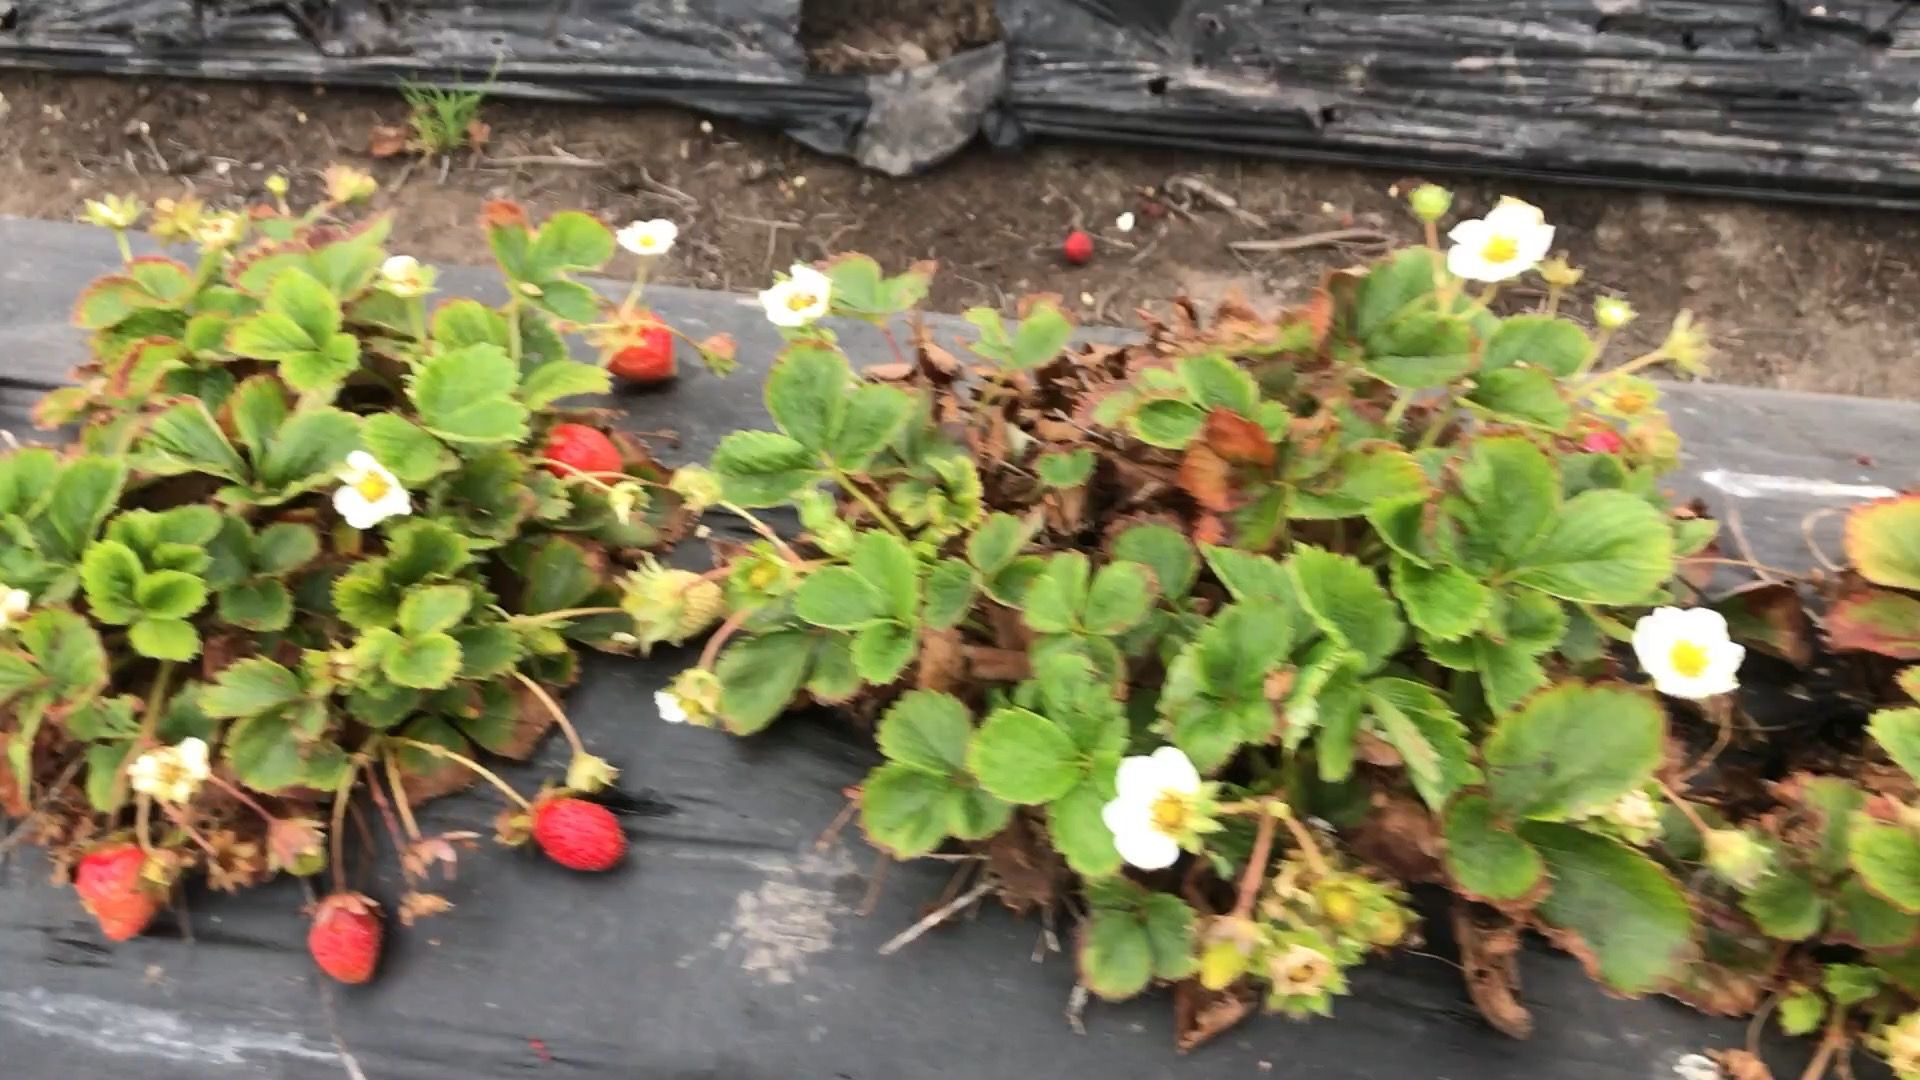ripe_strawberry: (71, 840, 166, 953), (524, 793, 633, 884), (306, 891, 390, 992), (597, 309, 679, 390), (535, 419, 626, 488)
